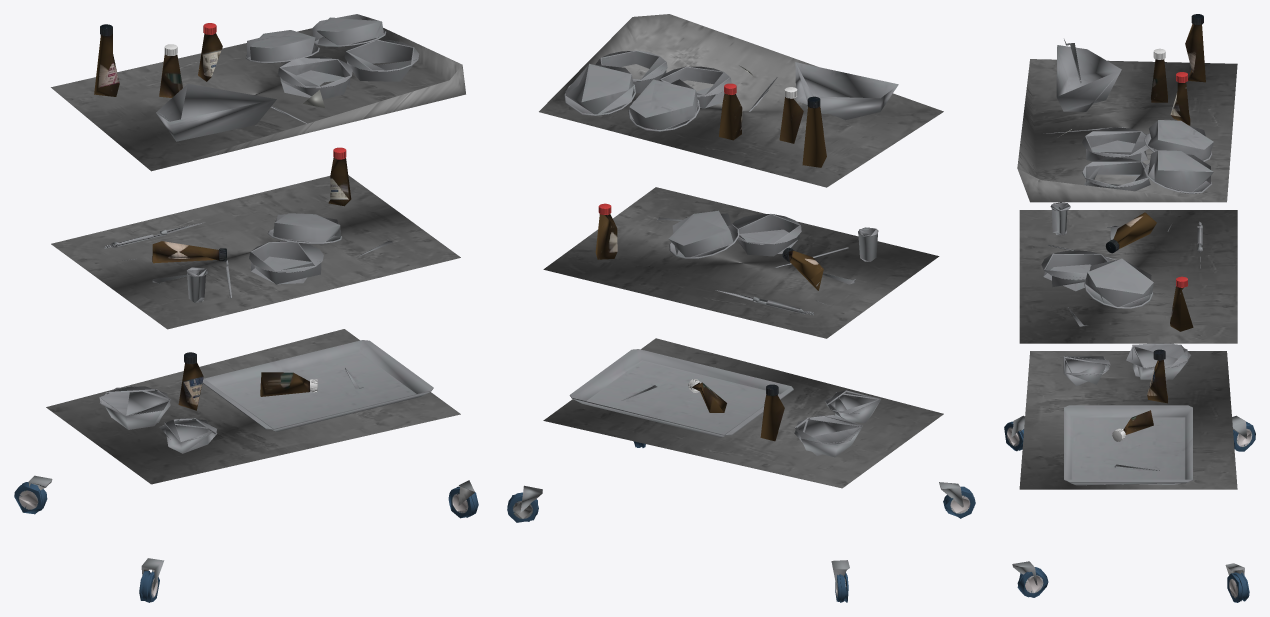
File: cart_surgical.glb
The picture shows the model from 3 angles, left to right: view 1: azimuth 30°, elevation 25°; view 2: azimuth 150°, elevation 25°; view 3: azimuth 270°, elevation 25°; orthographic projection. The views are drawn at different scales.
Visible parts, largest first — view 1: Circle.007, prop; view 2: Circle.007, prop; view 3: Circle.007, prop.
Part boxes in pixels (left/top/right/bottom): Circle.007: left=14, top=28, right=478, bottom=602; prop: left=94, top=14, right=433, bottom=453; Circle.007: left=507, top=14, right=975, bottom=602; prop: left=564, top=50, right=898, bottom=457; Circle.007: left=1004, top=59, right=1255, bottom=602; prop: left=1041, top=14, right=1213, bottom=485.
Bounding box in the file's own units: 1.84 × 2.4 × 1.2.
2 materials, 2 textured.
